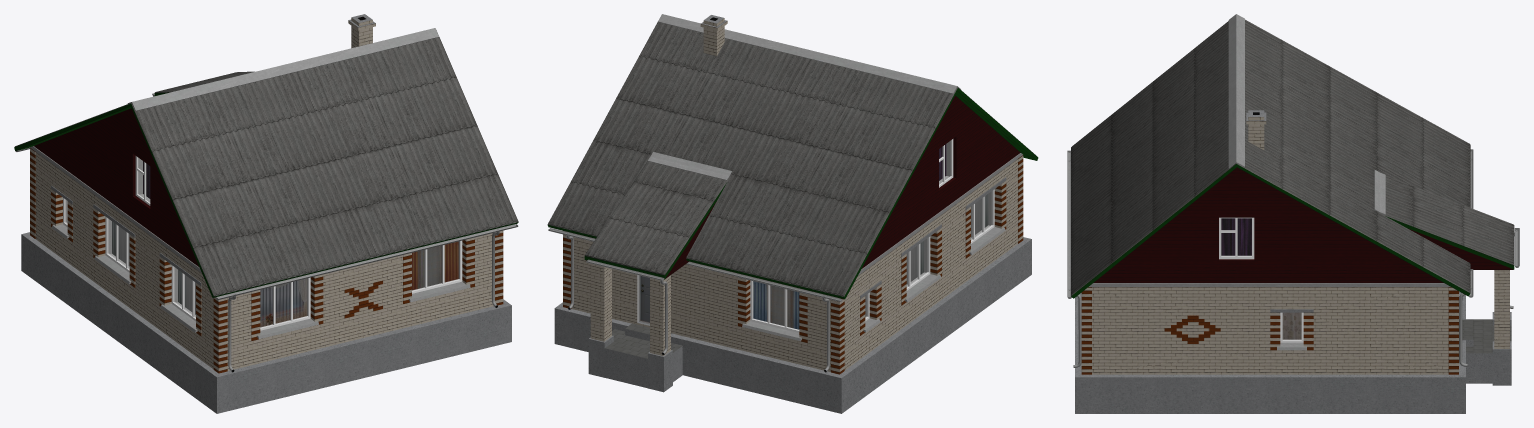
Rendered from house_white_bricks.glb.
3 views of the same model, side by side, from view 1: azimuth 30°, elevation 25°; view 2: azimuth 150°, elevation 25°; view 3: azimuth 270°, elevation 25° (orthographic). The views are drawn at different scales.
Visible parts, largest first — view 1: 07_L_284_LOD0_; view 2: 07_L_284_LOD0_; view 3: 07_L_284_LOD0_.
Boxes of the visible parts, x1,y1,x2,y2 form: 07_L_284_LOD0_: [14, 14, 518, 413]; 07_L_284_LOD0_: [547, 14, 1038, 413]; 07_L_284_LOD0_: [1067, 14, 1519, 413].
Size of the model in its own units: 7.01 by 5.97 by 9.01.
15 materials, 15 textured.
